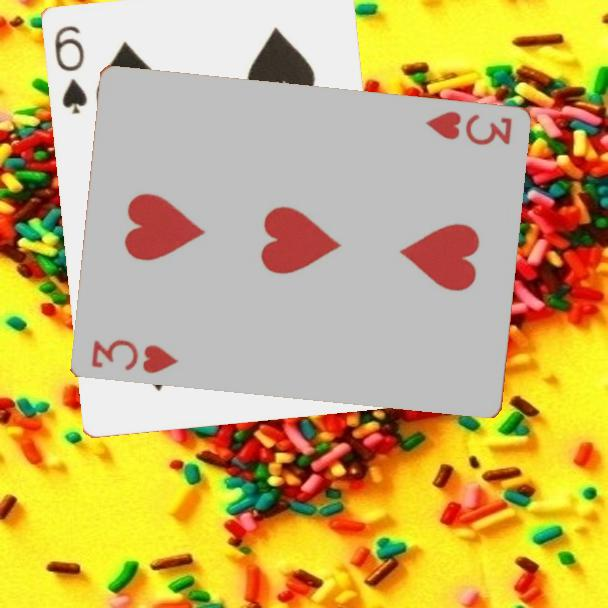h03: (87, 336, 181, 377), (421, 108, 515, 149)
s06: (50, 21, 89, 117)
